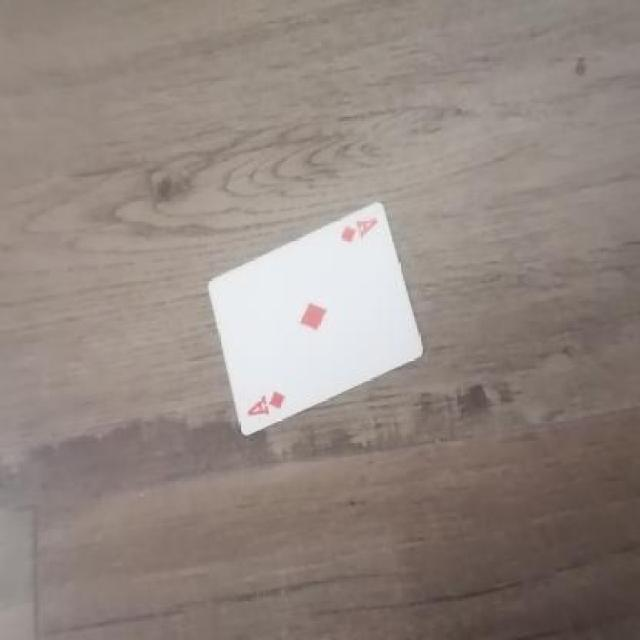AD: (244, 385, 311, 429), (339, 211, 383, 255)
